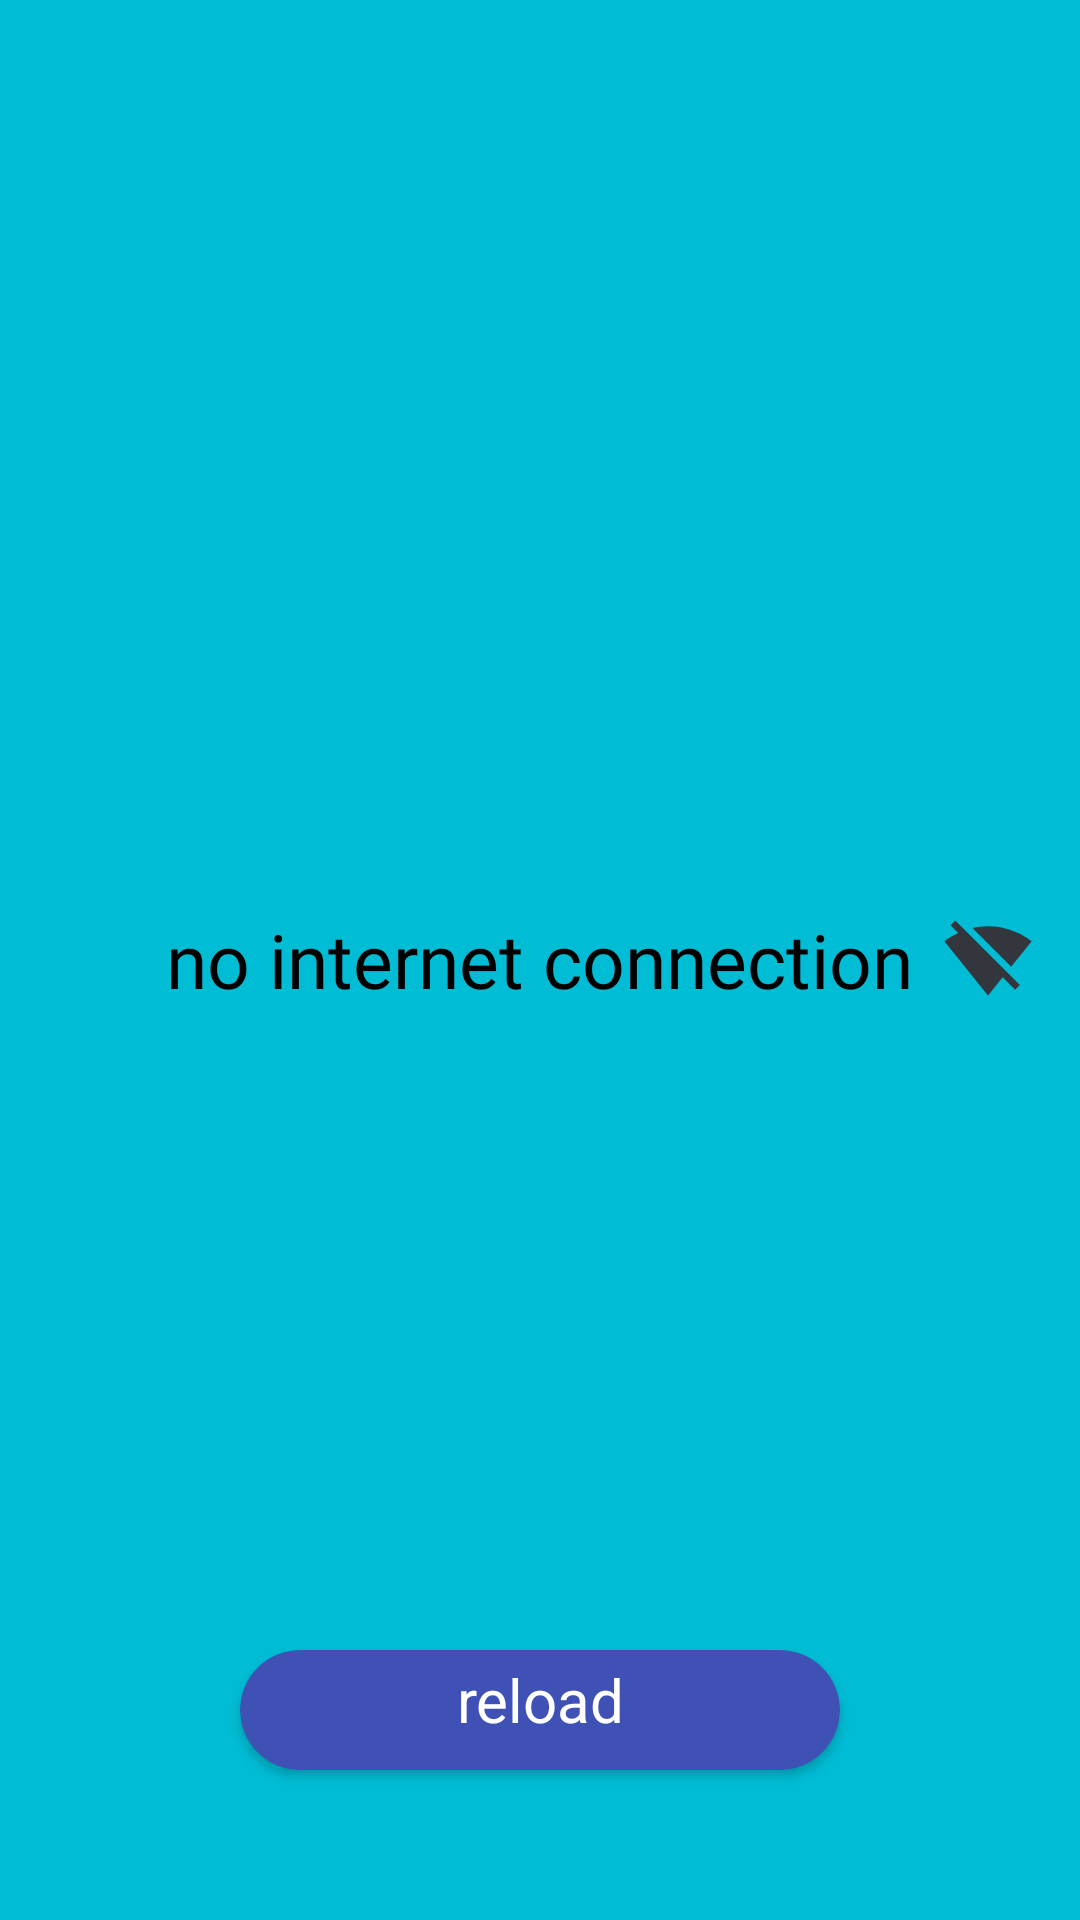

Icons on this 1080x1920 Android screen, each with the point to tap as [x,y]:
wifi off: [988,957]
